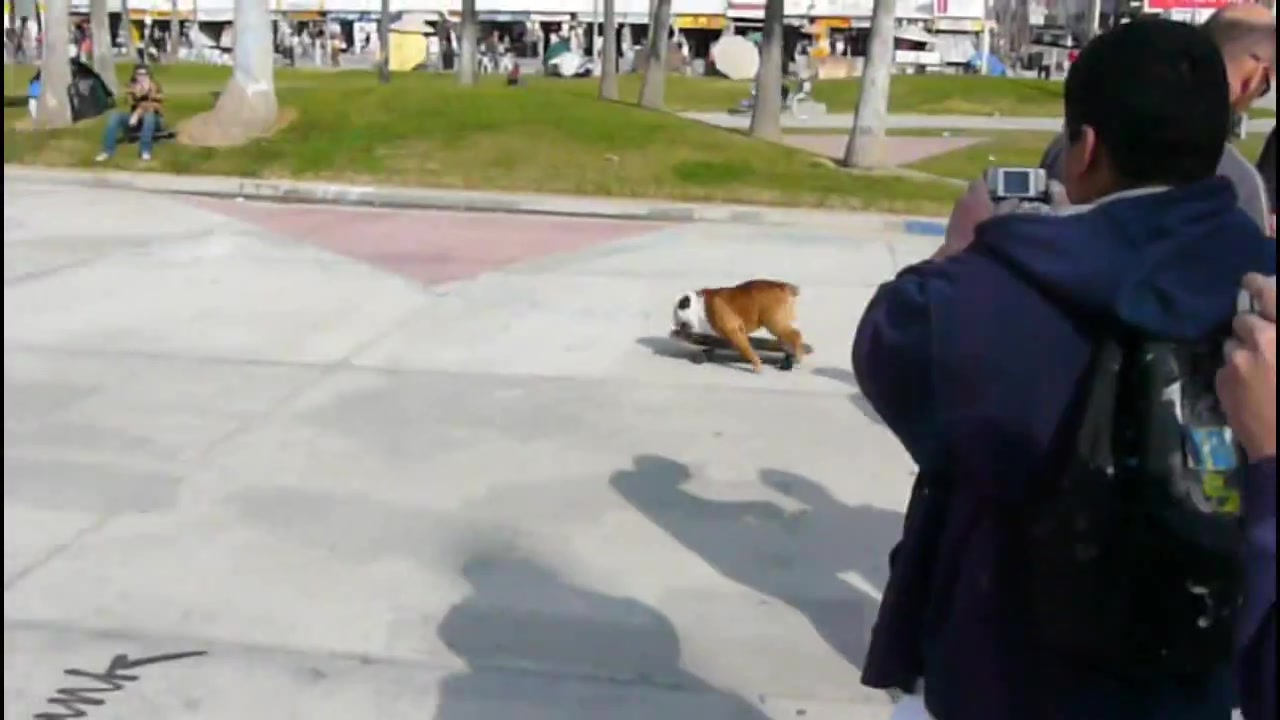dog: (675, 278, 810, 374)
